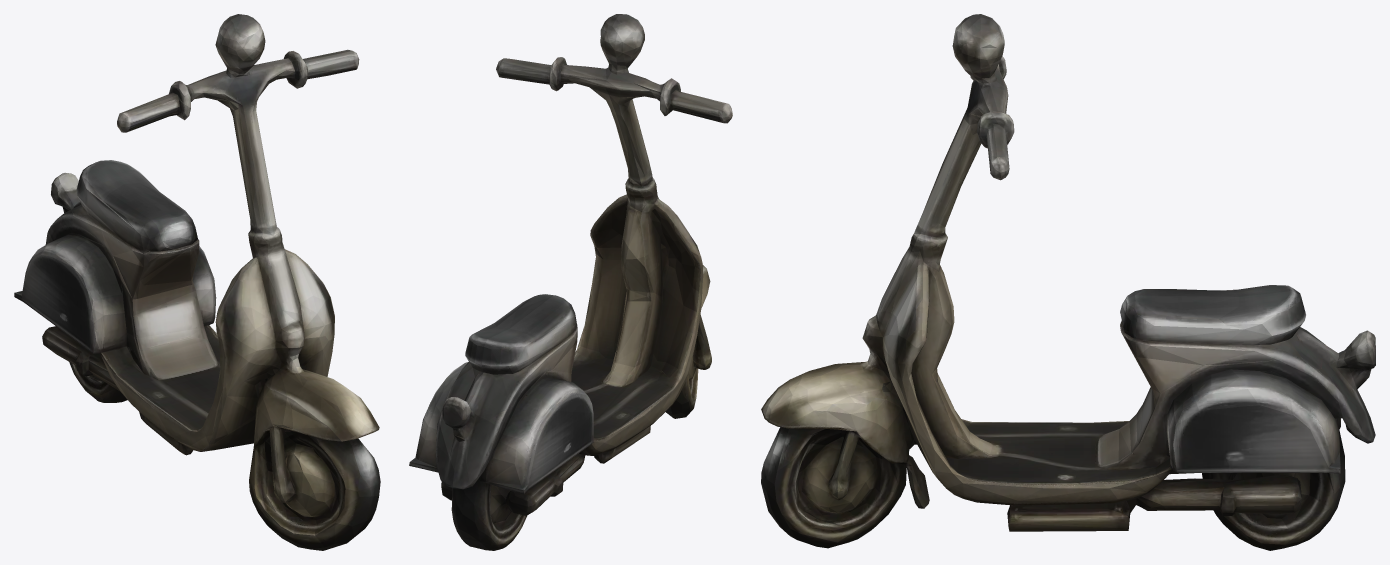
Rendered from scooter.glb.
3 views of the same model, side by side, from view 1: azimuth 30°, elevation 25°; view 2: azimuth 150°, elevation 25°; view 3: azimuth 270°, elevation 25° (orthographic). The views are drawn at different scales.
Visible parts, largest first — view 1: world; view 2: world; view 3: world.
Boxes of the visible parts, x1=… form: world: x1=14, y1=14, x2=380, y2=550; world: x1=409, y1=14, x2=732, y2=550; world: x1=761, y1=14, x2=1375, y2=550.
Bounding box in the file's own units: 0.507 × 0.9451 × 0.9978.
Materials: 1 (1 with a texture image).
